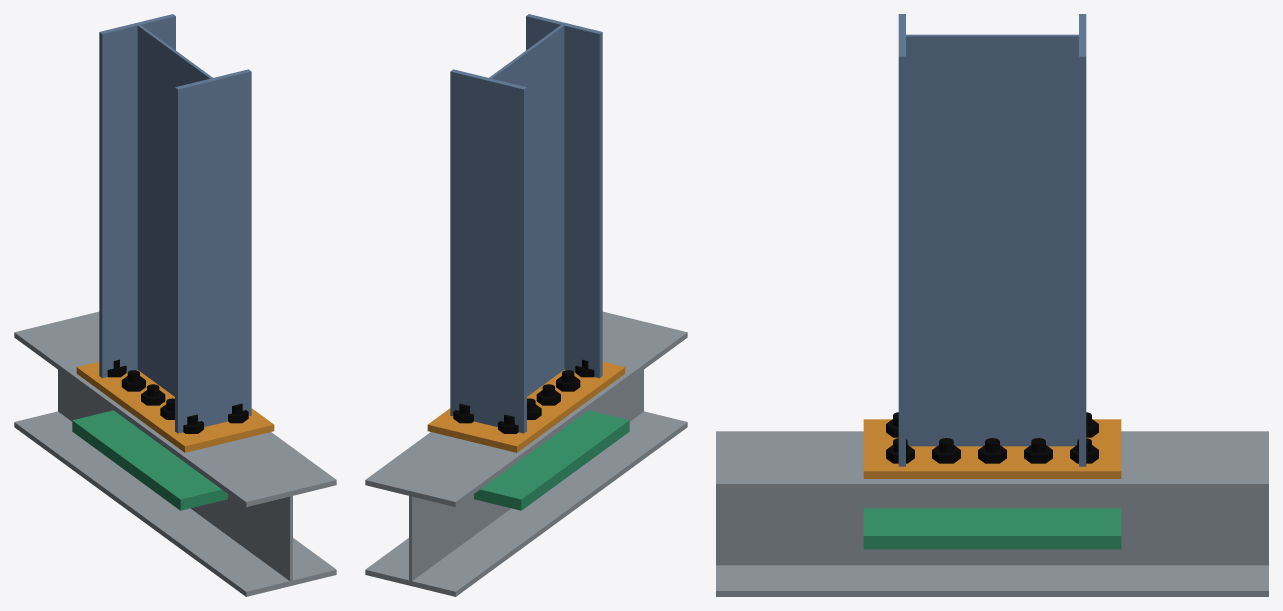
The model's file is detail_A1_beam_to_column_flange_connection.obj.
3 views of the same model, side by side, from view 1: azimuth 30°, elevation 25°; view 2: azimuth 150°, elevation 25°; view 3: azimuth 270°, elevation 25° (orthographic). The views are drawn at different scales.
Visible parts, largest first — view 1: A1_beam_to_column_flange_top_flange, A1_beam_to_column_flange_bottom_flange, A1_beam_to_column_flange_web, A1_UC203x203_column_flange_near, A1_UC203x203_column_flange_far, A1_PL8_column_stiffener, A1_UC203x203_column_web, A1_PL14_end_plate_200x420; view 2: A1_beam_to_column_flange_bottom_flange, A1_beam_to_column_flange_top_flange, A1_beam_to_column_flange_web, A1_UC203x203_column_flange_near, A1_UC203x203_column_flange_far, A1_PL8_column_stiffener, A1_UC203x203_column_web, A1_PL14_end_plate_200x420; view 3: A1_beam_to_column_flange_web, A1_UC203x203_column_web, A1_UC203x203_column_flange_far, A1_UC203x203_column_flange_near, A1_PL8_column_stiffener, A1_PL14_end_plate_200x420, A1_beam_to_column_flange_top_flange, A1_beam_to_column_flange_bottom_flange.
Part boxes in pixels (x1=…): A1_beam_to_column_flange_top_flange: x1=175, y1=69, x2=251, y2=433; A1_beam_to_column_flange_bottom_flange: x1=99, y1=14, x2=175, y2=378; A1_beam_to_column_flange_web: x1=137, y1=25, x2=212, y2=396; A1_UC203x203_column_flange_near: x1=14, y1=411, x2=336, y2=596; A1_UC203x203_column_flange_far: x1=14, y1=311, x2=336, y2=507; A1_PL8_column_stiffener: x1=72, y1=410, x2=227, y2=510; A1_UC203x203_column_web: x1=58, y1=370, x2=292, y2=580; A1_PL14_end_plate_200x420: x1=76, y1=362, x2=274, y2=452; A1_beam_to_column_flange_bottom_flange: x1=450, y1=69, x2=526, y2=433; A1_beam_to_column_flange_top_flange: x1=526, y1=14, x2=602, y2=378; A1_beam_to_column_flange_web: x1=489, y1=25, x2=564, y2=396; A1_UC203x203_column_flange_near: x1=365, y1=411, x2=687, y2=596; A1_UC203x203_column_flange_far: x1=365, y1=311, x2=687, y2=507; A1_PL8_column_stiffener: x1=474, y1=410, x2=629, y2=510; A1_UC203x203_column_web: x1=409, y1=370, x2=643, y2=580; A1_PL14_end_plate_200x420: x1=427, y1=362, x2=625, y2=452; A1_beam_to_column_flange_web: x1=906, y1=34, x2=1078, y2=446; A1_UC203x203_column_web: x1=716, y1=490, x2=1268, y2=565; A1_UC203x203_column_flange_far: x1=716, y1=431, x2=1268, y2=489; A1_UC203x203_column_flange_near: x1=716, y1=565, x2=1268, y2=596; A1_PL8_column_stiffener: x1=863, y1=508, x2=1121, y2=549; A1_PL14_end_plate_200x420: x1=863, y1=419, x2=1121, y2=478; A1_beam_to_column_flange_top_flange: x1=898, y1=14, x2=905, y2=466; A1_beam_to_column_flange_bottom_flange: x1=1079, y1=14, x2=1086, y2=466.
Size of the model in its own units: 220 by 962 by 900.
